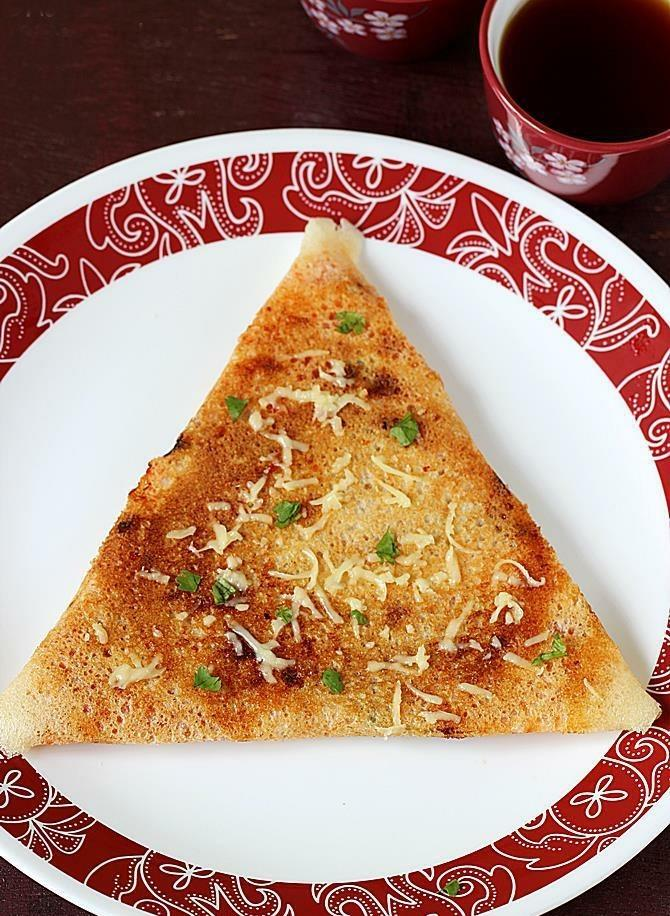Dosa: (0, 217, 661, 755)
